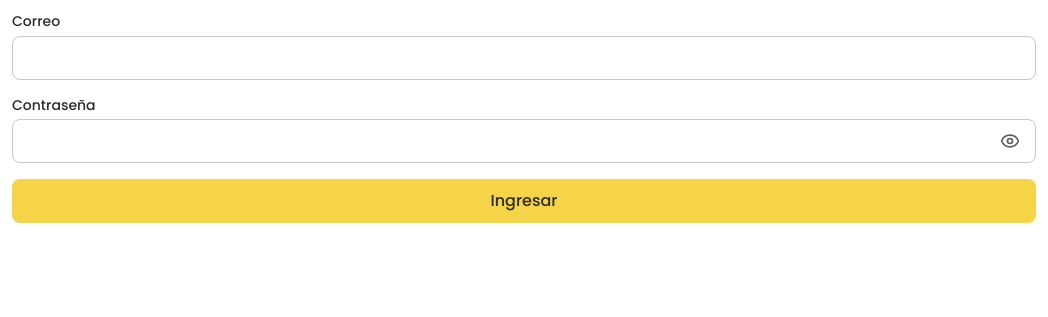
Scenario: FormularioIngreso › el aviso de revisión desaparece al editar un campo
Click the button "Ingresar".
click(524, 201)  # box [12, 179, 1036, 223]
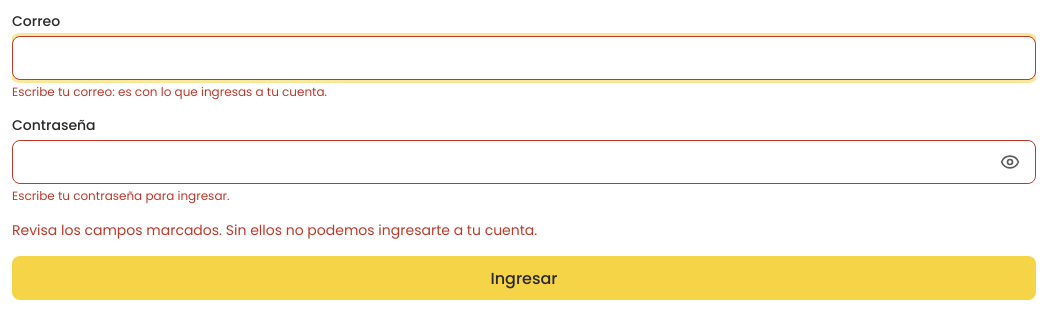
Expected: the text "Revisa los campos marcados. Sin ellos no podemos ingresarte a tu cuenta." is shown, [12, 221, 610, 240]
Type "a" into the field labelled "Correo".
click(524, 58); type("a")  # box [12, 36, 1036, 80]
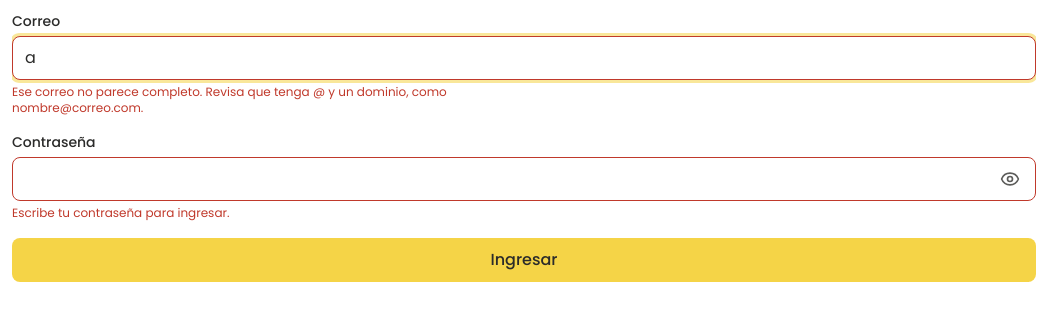
Expected: the text "Revisa los campos marcados" is gone
